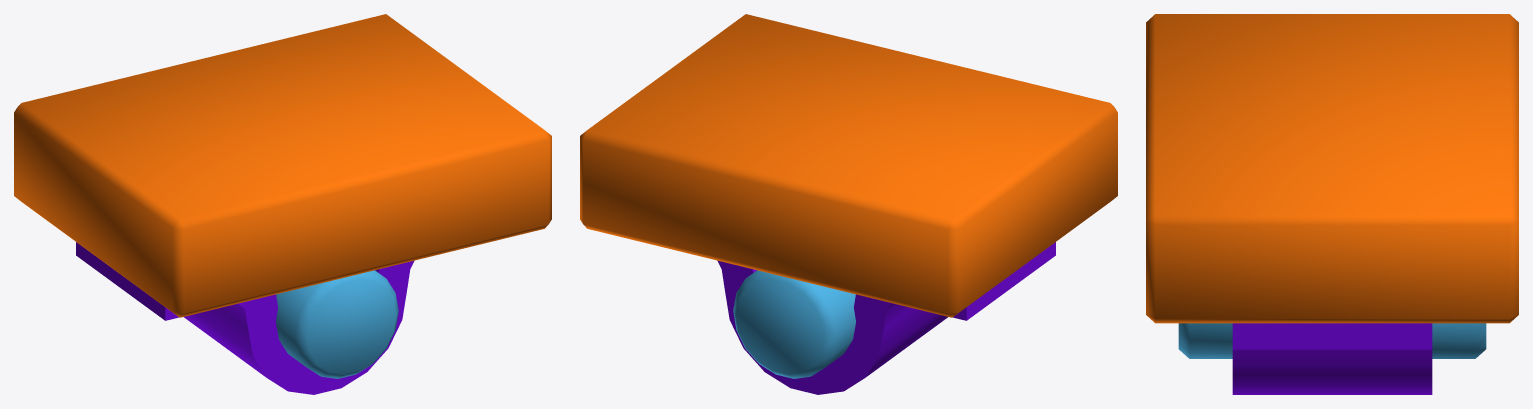
Rendered from Hanging_Hammer_Socket_05.fbx.
3 views of the same model, side by side, from view 1: azimuth 30°, elevation 25°; view 2: azimuth 150°, elevation 25°; view 3: azimuth 270°, elevation 25° (orthographic). The views are drawn at different scales.
Visible parts, largest first — view 1: Obstacle_Hanging_Hammer_Socket_05; view 2: Obstacle_Hanging_Hammer_Socket_05; view 3: Obstacle_Hanging_Hammer_Socket_05.
Part boxes in pixels (x1,y1,x2,y2): Obstacle_Hanging_Hammer_Socket_05: (14,14,551,394); Obstacle_Hanging_Hammer_Socket_05: (580,14,1117,394); Obstacle_Hanging_Hammer_Socket_05: (1146,14,1518,394).
Size of the model in its own units: 65.61 by 40.08 by 50.
1 material, 1 textured.
